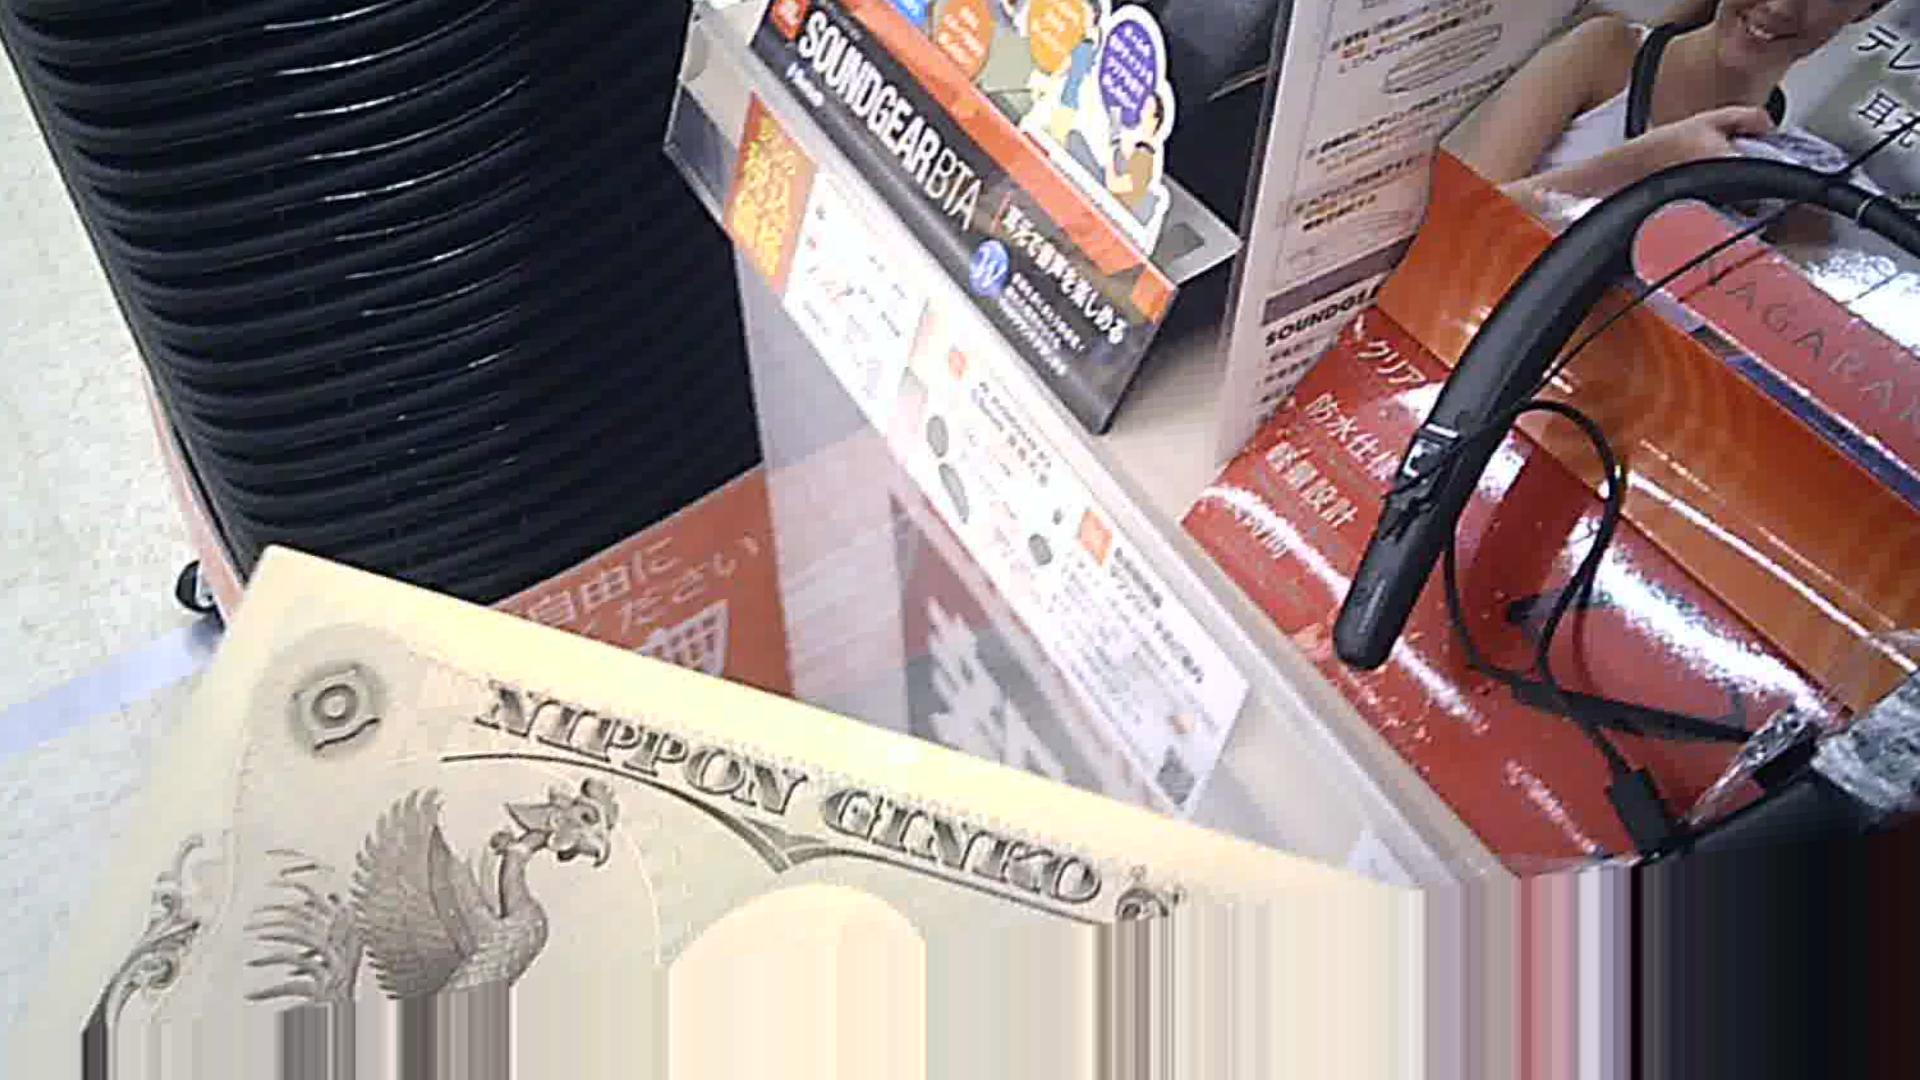10,000 Yen: (24, 514, 1382, 959)
